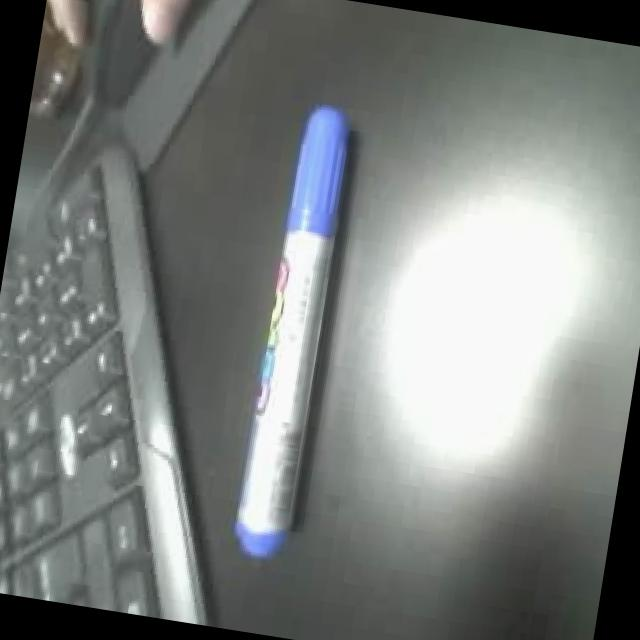board-marker: (227, 96, 359, 573)
